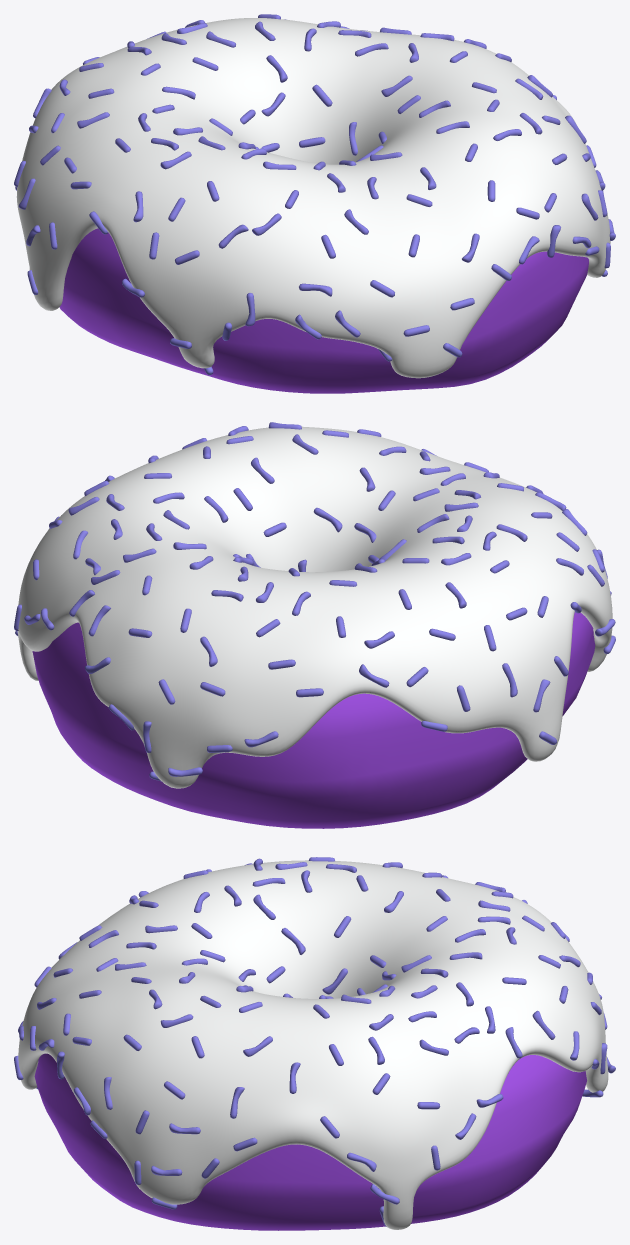
Rendered from Donut.fbx.
3 renders of one model, top to bottom at view 1: azimuth 30°, elevation 25°; view 2: azimuth 150°, elevation 25°; view 3: azimuth 270°, elevation 25°, orthographic. The views are drawn at different scales.
Visible parts, largest first — view 1: icing.001, donut.001; view 2: icing.001, donut.001; view 3: icing.001, donut.001.
Part boxes in pixels (left/top/right/bottom): icing.001: left=14, top=14, right=615, bottom=378; donut.001: left=59, top=228, right=588, bottom=393; icing.001: left=14, top=422, right=615, bottom=788; donut.001: left=32, top=612, right=595, bottom=828; icing.001: left=14, top=857, right=615, bottom=1229; donut.001: left=34, top=1053, right=586, bottom=1230.
Bounding box in the file's own units: 10.36 × 4.33 × 10.89.
